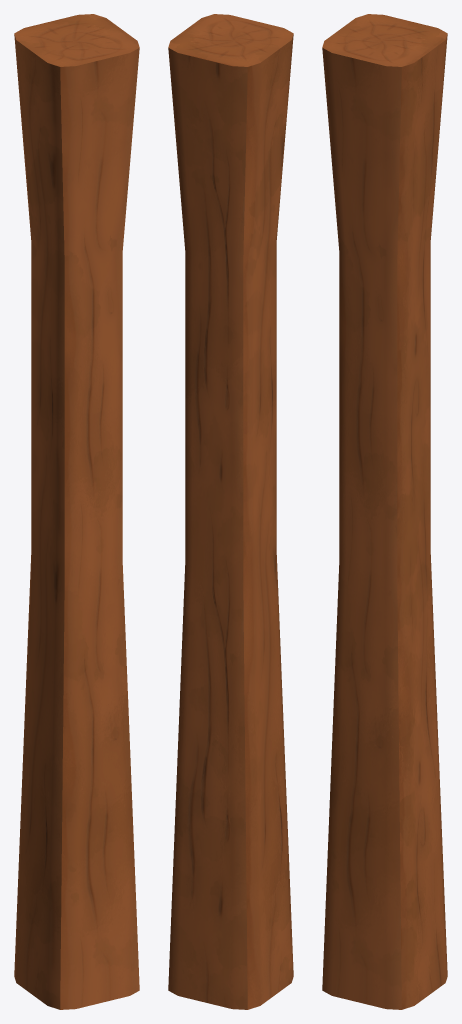
The model's file is LOD_verticalplank1.fbx.
The picture shows the model from 3 angles, left to right: view 1: azimuth 30°, elevation 25°; view 2: azimuth 150°, elevation 25°; view 3: azimuth 330°, elevation 25°; orthographic projection.
Parts seen in each view (by area): view 1: verticalplank1_LOD0; view 2: verticalplank1_LOD0; view 3: verticalplank1_LOD0.
Part boxes in pixels (x1,y1,x2,y2): verticalplank1_LOD0: (14,14,139,1009); verticalplank1_LOD0: (168,14,293,1009); verticalplank1_LOD0: (322,14,447,1009).
Bounding box in the file's own units: 0.3 × 3 × 0.3.
1 material, 1 textured.
